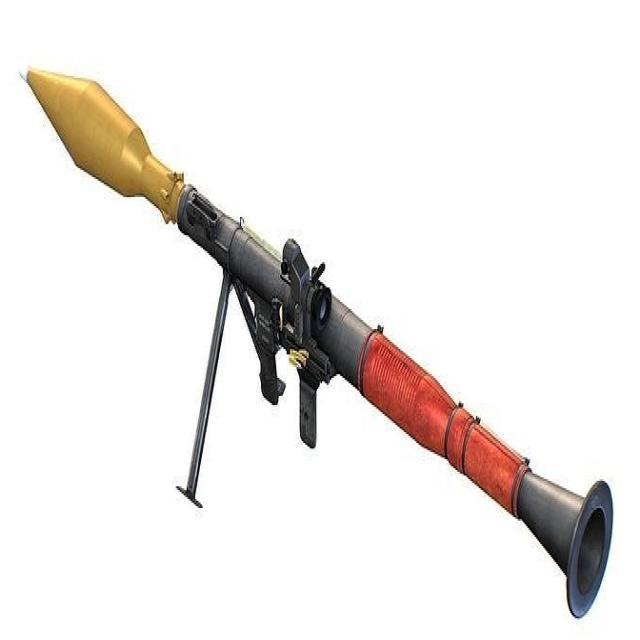Weapon: (26, 72, 611, 616)
